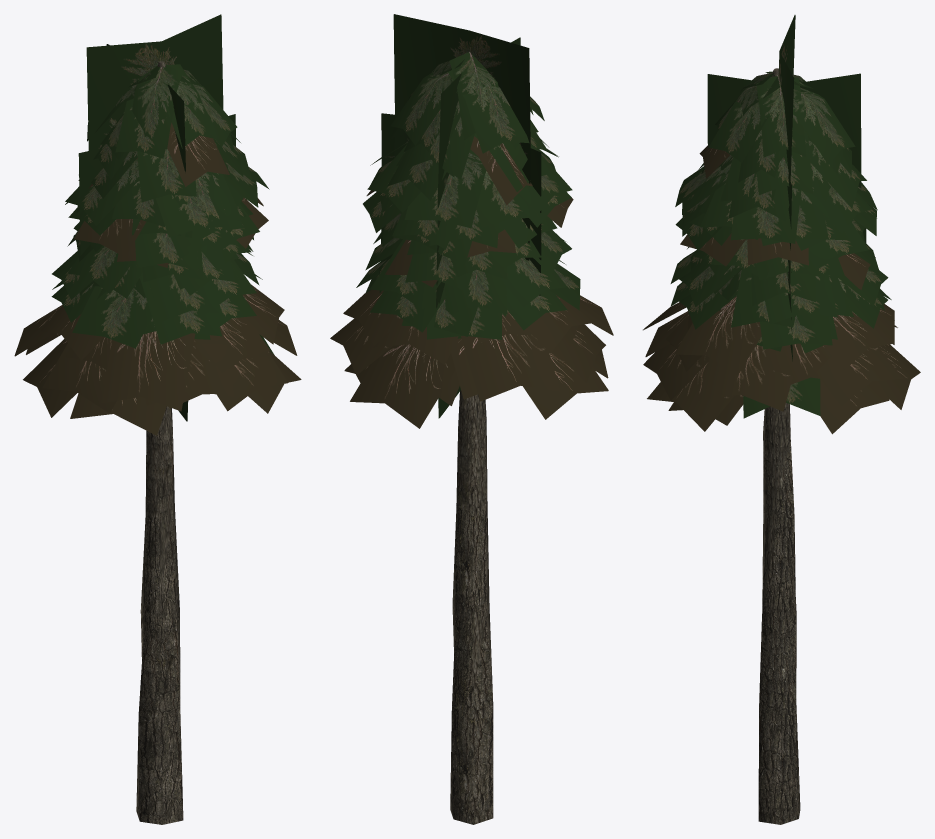
File: prpineB.FBX
3 views of the same model, side by side, from view 1: azimuth 30°, elevation 25°; view 2: azimuth 150°, elevation 25°; view 3: azimuth 270°, elevation 25° (orthographic). The views are drawn at different scales.
Visible parts, largest first — view 1: pinetrunk; view 2: pinetrunk; view 3: pinetrunk.
Boxes of the visible parts, x1,y1,x2,y2 form: pinetrunk: (14, 14, 301, 824); pinetrunk: (330, 14, 613, 824); pinetrunk: (643, 15, 920, 824).
Bounding box in the file's own units: 2.09 × 6.43 × 2.11.
